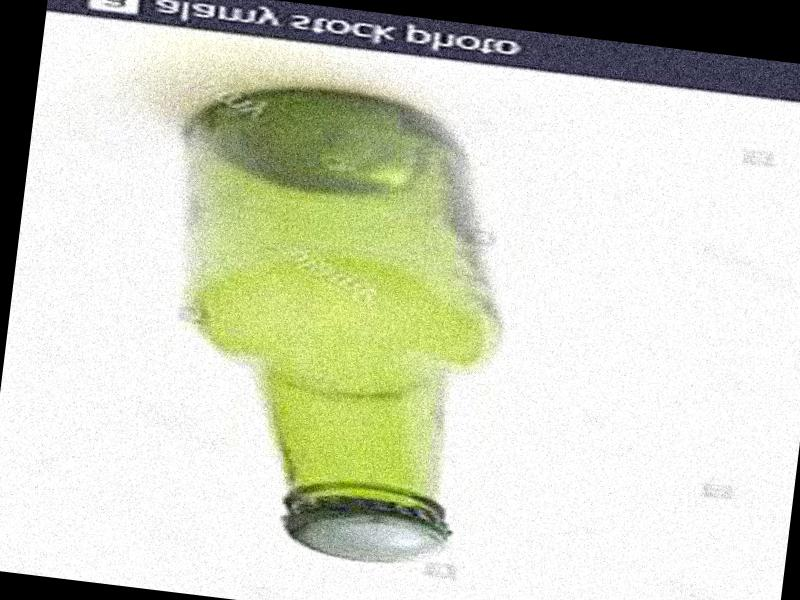Beer: (138, 74, 503, 572)
